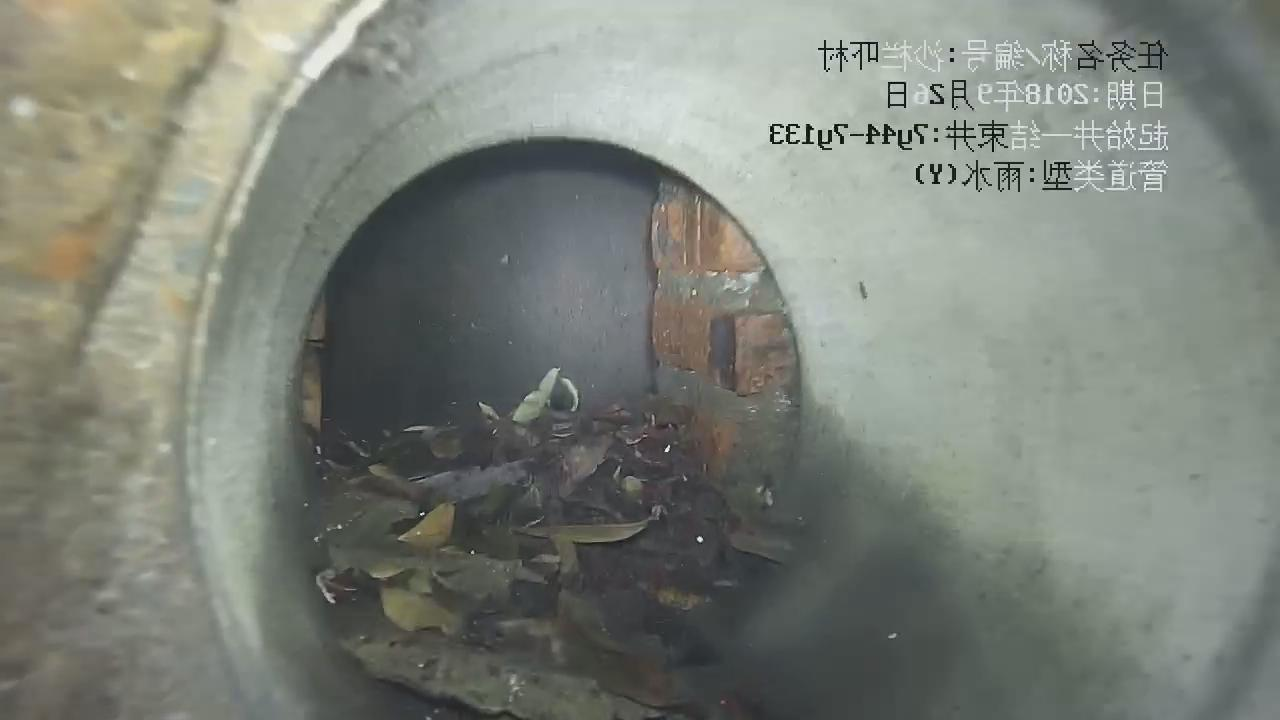CJ: (317, 369, 770, 719)
CQBG: (651, 181, 798, 555)
